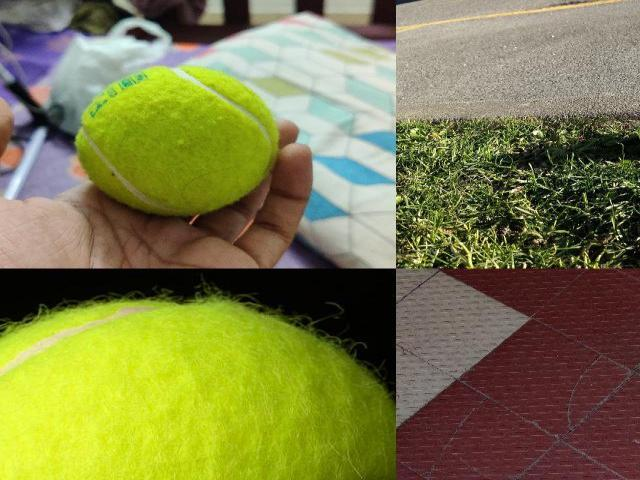tennis-ball: (0, 303, 395, 479), (72, 63, 278, 217)
